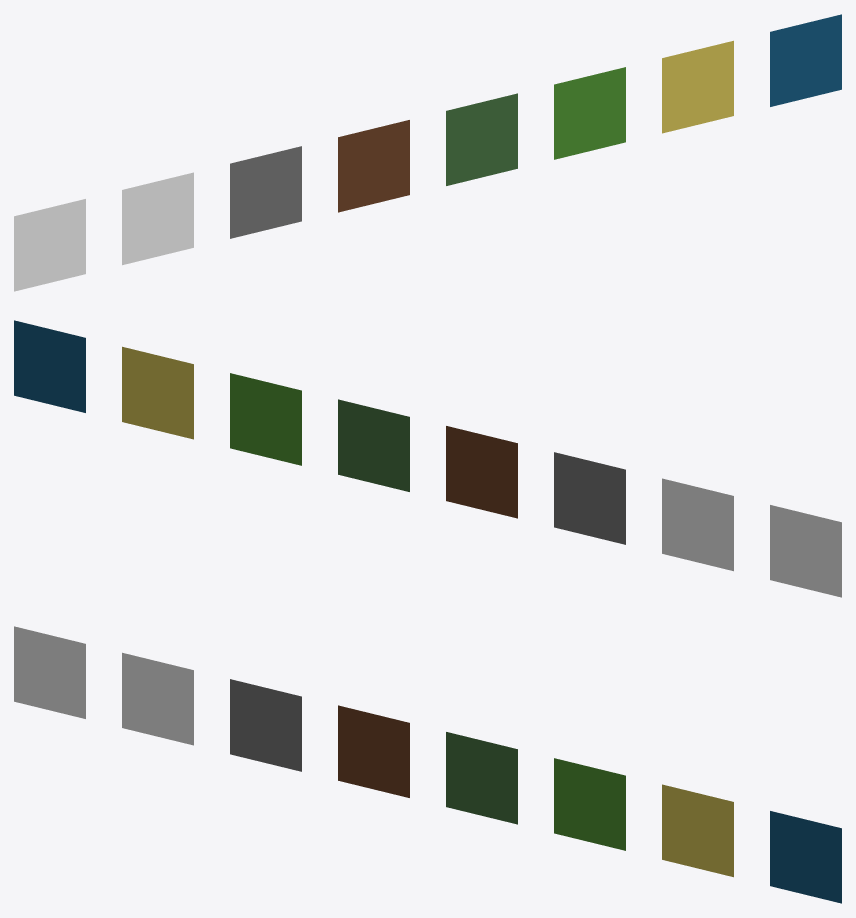
The model's file is ground.glb.
3 renders of one model, top to bottom at view 1: azimuth 30°, elevation 25°; view 2: azimuth 150°, elevation 25°; view 3: azimuth 330°, elevation 25°, orthographic.
Parts seen in each view (by area): view 1: Water, Grass, Stone, Packed Ice, Dirt, Forest, Sand, Ice; view 2: Water, Grass, Stone, Packed Ice, Dirt, Forest, Sand, Ice; view 3: Water, Grass, Stone, Packed Ice, Dirt, Forest, Sand, Ice.
Part boxes in pixels (<box>): Water: <box>770,14,841,106</box>; Grass: <box>554,67,625,159</box>; Stone: <box>230,146,301,238</box>; Packed Ice: <box>14,199,85,291</box>; Dirt: <box>338,120,409,212</box>; Forest: <box>446,93,517,185</box>; Sand: <box>662,40,733,133</box>; Ice: <box>122,172,193,265</box>; Water: <box>14,320,85,412</box>; Grass: <box>230,373,301,465</box>; Stone: <box>554,452,625,544</box>; Packed Ice: <box>770,505,841,597</box>; Dirt: <box>446,426,517,518</box>; Forest: <box>338,399,409,491</box>; Sand: <box>122,346,193,439</box>; Ice: <box>662,478,733,571</box>; Water: <box>770,811,841,903</box>; Grass: <box>554,758,625,850</box>; Stone: <box>230,679,301,771</box>; Packed Ice: <box>14,626,85,718</box>; Dirt: <box>338,705,409,797</box>; Forest: <box>446,732,517,824</box>; Sand: <box>662,784,733,877</box>; Ice: <box>122,652,193,745</box>.
Size of the model in its own units: 23 by 2 by 0.
